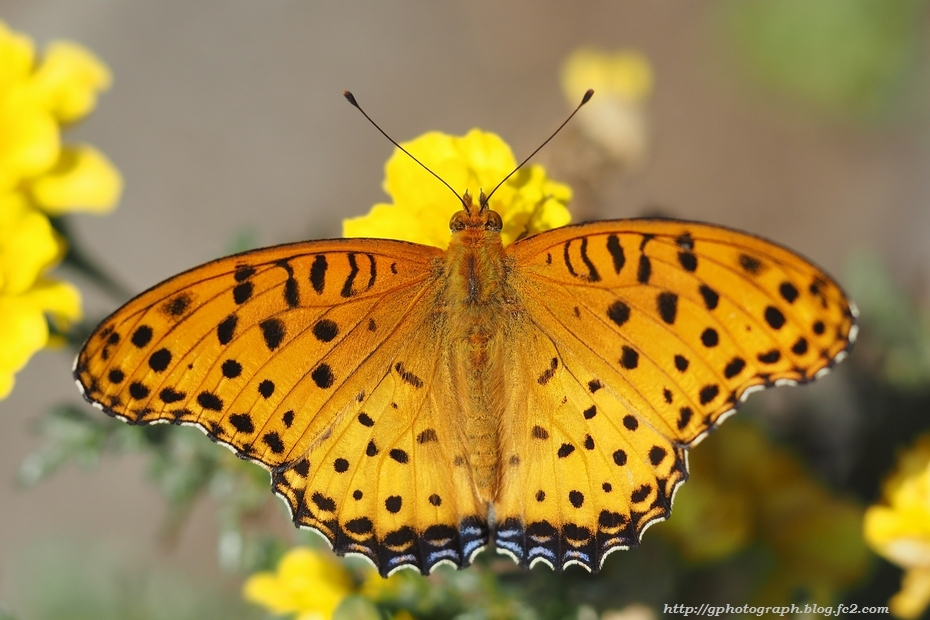Argyreus hyperbius: (72, 72, 874, 576)
butterfly: (74, 74, 876, 578)
